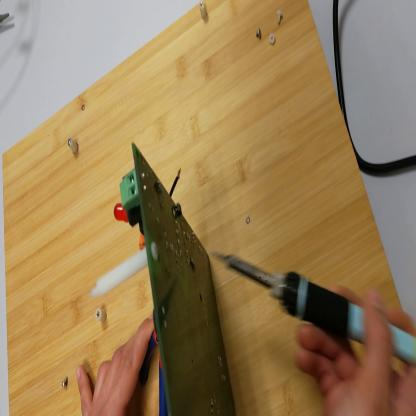hand: (295, 285, 416, 415), (74, 319, 159, 414)
low voltage board: (92, 141, 237, 416)
oscilloscope probe tip: (2, 9, 12, 24)
pliers: (141, 330, 169, 416)
welder probe tip: (202, 255, 416, 361)
working area: (4, 3, 407, 414)
